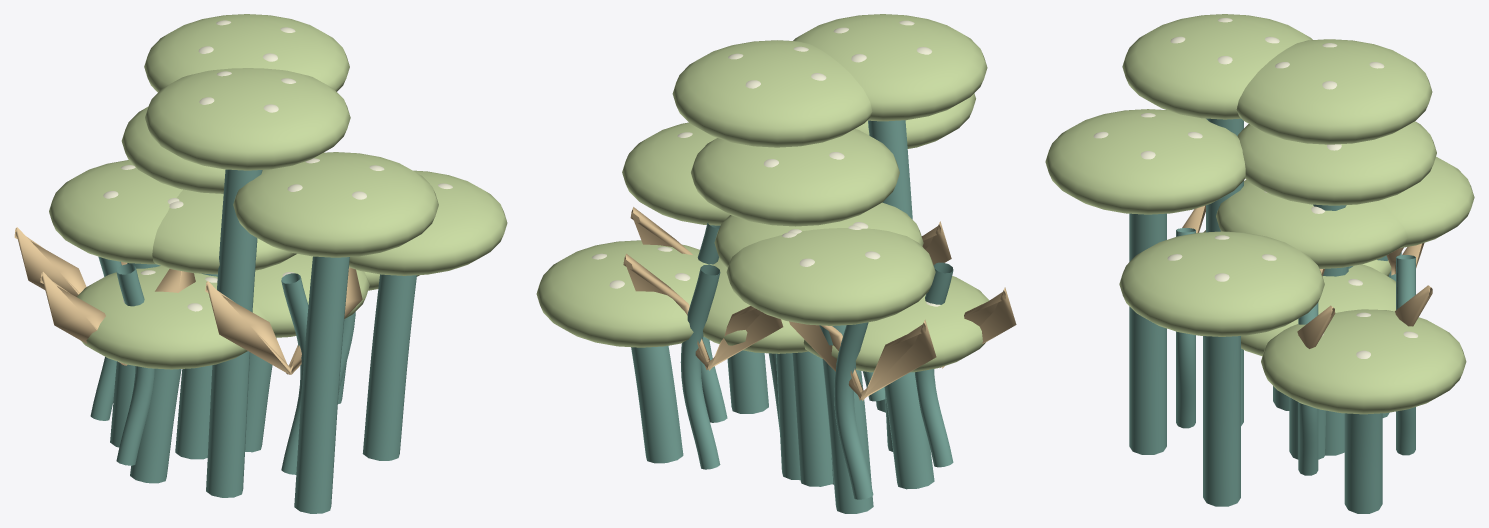
The model's file is bio_spore_fungus_22_near.glb.
The picture shows the model from 3 angles, left to right: view 1: azimuth 30°, elevation 25°; view 2: azimuth 150°, elevation 25°; view 3: azimuth 270°, elevation 25°; orthographic projection.
Visible parts, largest first — view 1: Thick umbrella cap.007, Thick umbrella cap.002, Thick umbrella cap.004, Thick umbrella cap.003, Curved stipe.002, Thick umbrella cap.001, Curved stipe.007, Thick umbrella cap.005, Curved stipe.005, Thick umbrella cap.009, Secondary fan lobe.004, Thick umbrella cap.006 (+11 smaller); view 2: Thick umbrella cap.003, Thick umbrella cap.001, Thick umbrella cap.006, Thick umbrella cap.007, Thick umbrella cap.008, Thick umbrella cap.005, Thick umbrella cap.004, Curved stipe.008, Curved stipe.006, Branching support.003, Curved stipe.004, Secondary fan lobe.002 (+14 smaller); view 3: Thick umbrella cap.005, Thick umbrella cap.002, Thick umbrella cap.008, Thick umbrella cap.003, Thick umbrella cap.007, Thick umbrella cap.006, Thick umbrella cap.009, Curved stipe.002, Curved stipe.005, Thick umbrella cap.001, Curved stipe.008, Thick umbrella cap (+8 smaller).
Boxes of the visible parts, <box> form: Thick umbrella cap.007: <box>145,68,350,170</box>; Thick umbrella cap.002: <box>233,152,438,257</box>; Thick umbrella cap.004: <box>77,266,267,369</box>; Thick umbrella cap.003: <box>144,14,349,92</box>; Curved stipe.002: <box>294,256,349,513</box>; Thick umbrella cap.001: <box>49,160,182,264</box>; Curved stipe.007: <box>206,169,262,497</box>; Thick umbrella cap.005: <box>349,170,507,275</box>; Curved stipe.005: <box>362,274,416,460</box>; Thick umbrella cap.009: <box>152,189,296,274</box>; Secondary fan lobe.004: <box>205,267,362,374</box>; Thick umbrella cap.006: <box>121,107,225,193</box>; Thick umbrella cap.003: <box>672,40,872,147</box>; Thick umbrella cap.001: <box>726,228,935,325</box>; Thick umbrella cap.006: <box>691,129,899,226</box>; Thick umbrella cap.007: <box>793,14,987,121</box>; Thick umbrella cap.008: <box>536,240,712,347</box>; Thick umbrella cap.005: <box>622,122,729,225</box>; Thick umbrella cap.004: <box>803,276,989,372</box>; Curved stipe.008: <box>631,345,683,463</box>; Curved stipe.006: <box>792,351,833,486</box>; Branching support.003: <box>680,264,720,469</box>; Curved stipe.004: <box>884,372,934,489</box>; Secondary fan lobe.002: <box>789,319,936,400</box>; Thick umbrella cap.005: <box>1119,231,1324,336</box>; Thick umbrella cap.002: <box>1045,109,1245,214</box>; Thick umbrella cap.008: <box>1261,309,1466,414</box>; Thick umbrella cap.003: <box>1236,39,1432,144</box>; Thick umbrella cap.007: <box>1122,14,1312,119</box>; Thick umbrella cap.006: <box>1237,121,1436,205</box>; Thick umbrella cap.009: <box>1216,180,1407,268</box>; Curved stipe.002: <box>1129,213,1166,454</box>; Curved stipe.005: <box>1203,336,1240,506</box>; Thick umbrella cap.001: <box>1379,156,1474,247</box>; Curved stipe.008: <box>1344,413,1382,513</box>; Thick umbrella cap: <box>1241,264,1395,356</box>.
Size of the model in its own units: 2.18 by 1.97 by 1.92.
